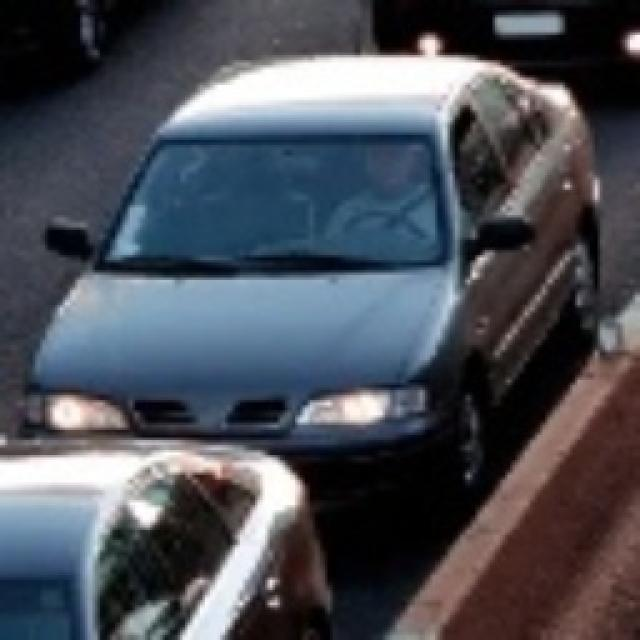windshield: (96, 121, 452, 283)
